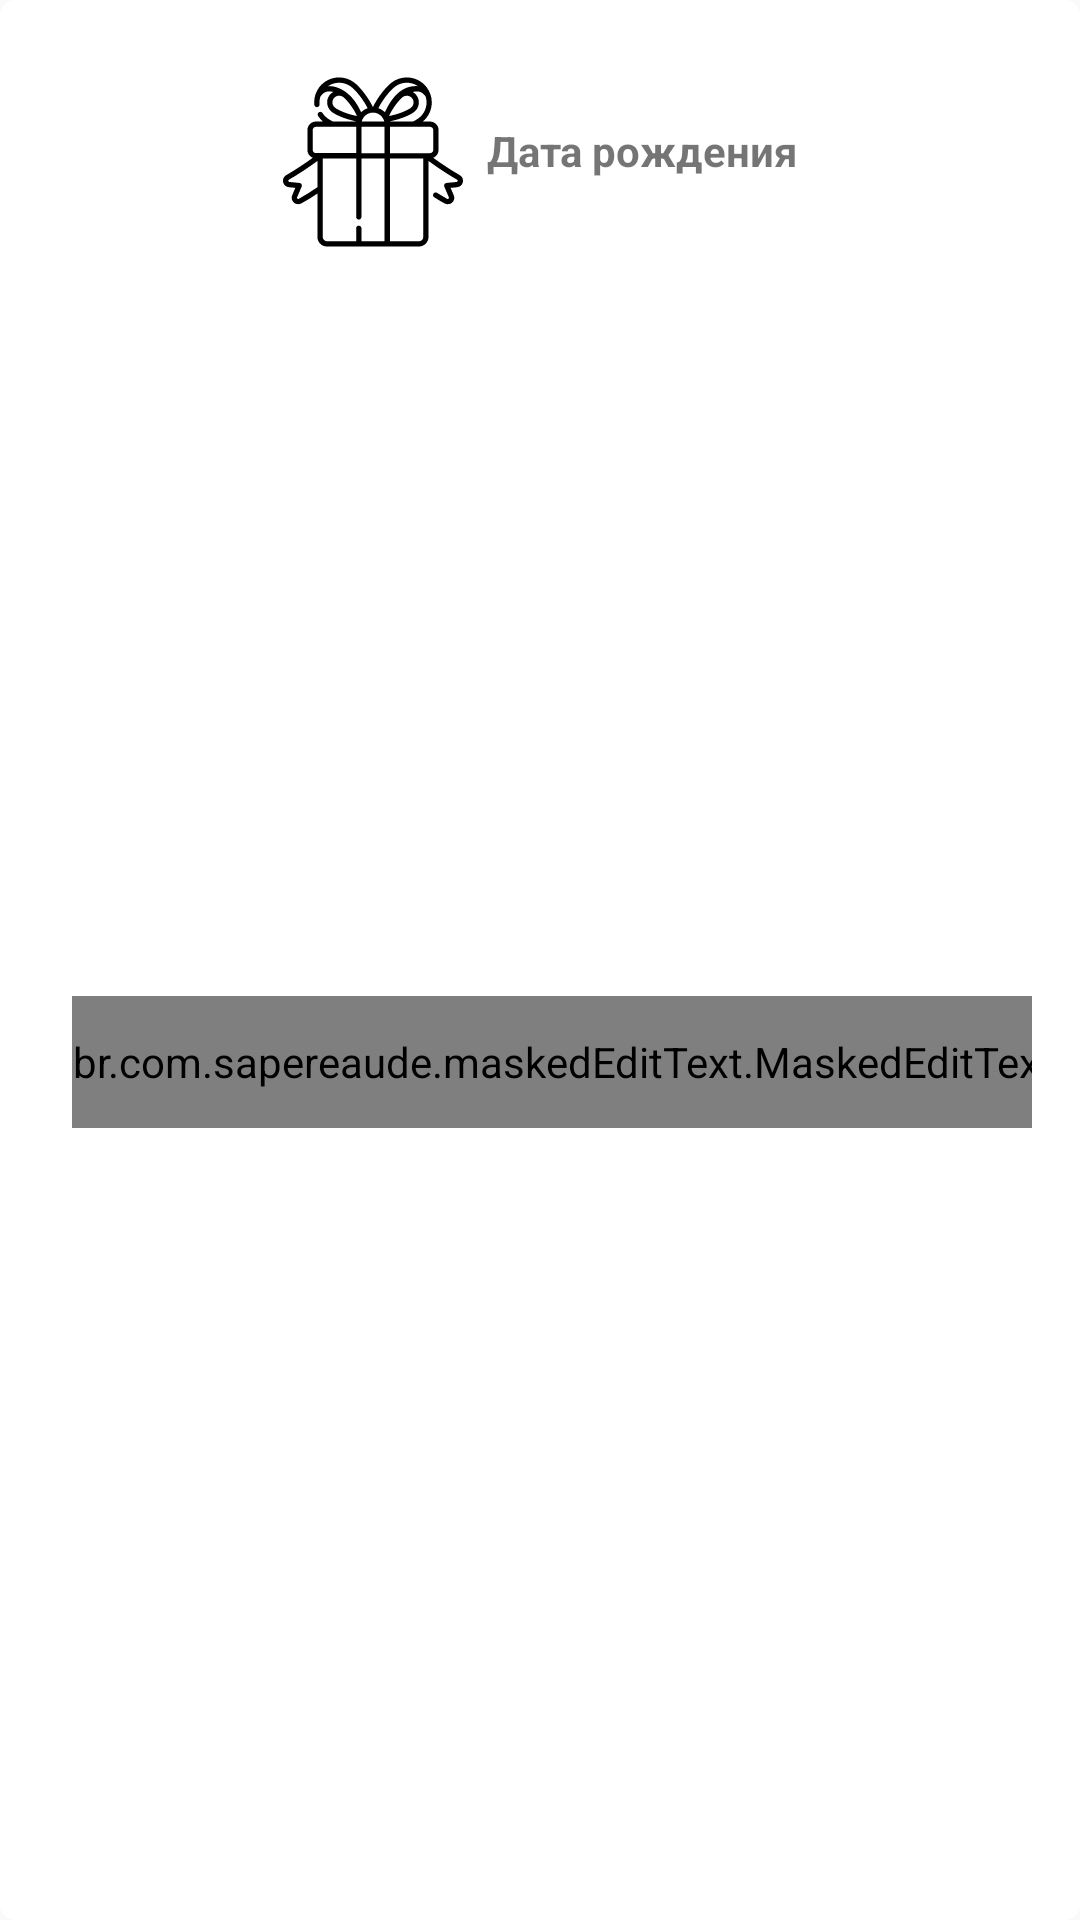

Icon click points for this 1080*1920 phone screenshot, format (x=x, y=y):
birthday dialog: (x=373, y=162)
